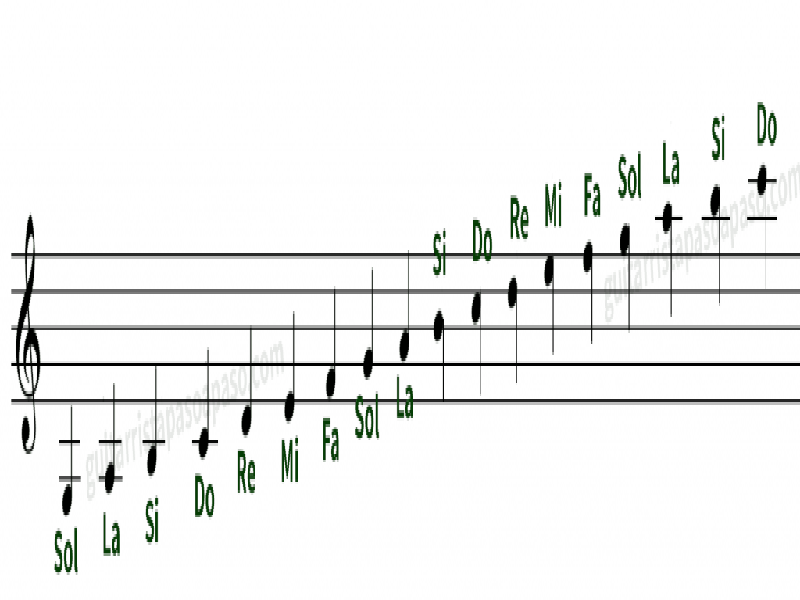CS: (16, 213, 47, 456)
N: (54, 404, 86, 520), (98, 380, 129, 494), (275, 309, 306, 423), (192, 345, 222, 461), (503, 273, 530, 383), (143, 365, 167, 482), (575, 242, 602, 344), (361, 268, 384, 382), (238, 322, 260, 441), (706, 184, 728, 301), (541, 253, 565, 354), (396, 247, 417, 362), (754, 162, 773, 287), (471, 284, 492, 391), (431, 309, 454, 399), (660, 201, 677, 316), (322, 286, 338, 403), (619, 220, 635, 329)
